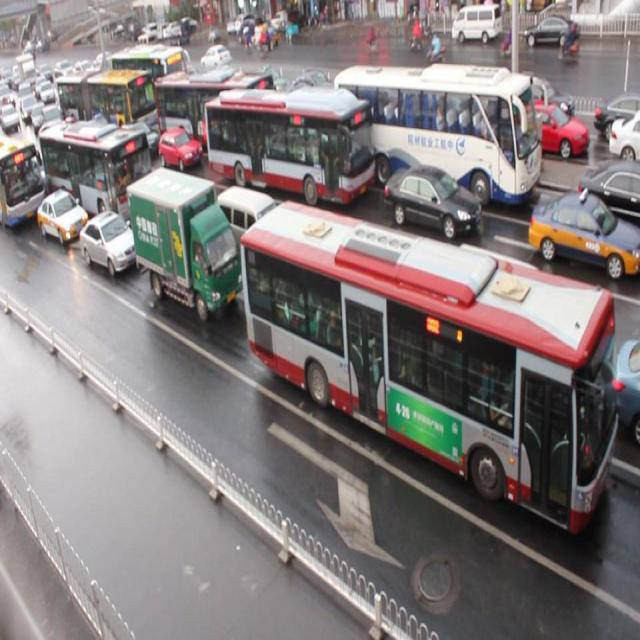BigCar: (243, 210, 615, 566), (375, 60, 542, 196), (201, 85, 374, 204), (126, 173, 239, 331), (38, 119, 147, 225), (0, 139, 45, 234)
car: (524, 184, 636, 281), (384, 161, 486, 237), (82, 199, 131, 283), (539, 100, 593, 170), (38, 188, 86, 249), (527, 12, 577, 58), (449, 4, 501, 45), (160, 124, 200, 174), (202, 46, 234, 70)
